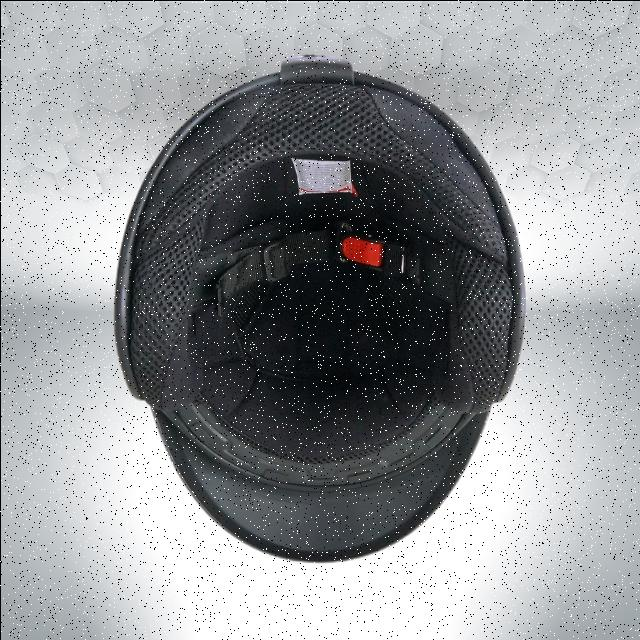Helmet: (112, 54, 526, 562)
